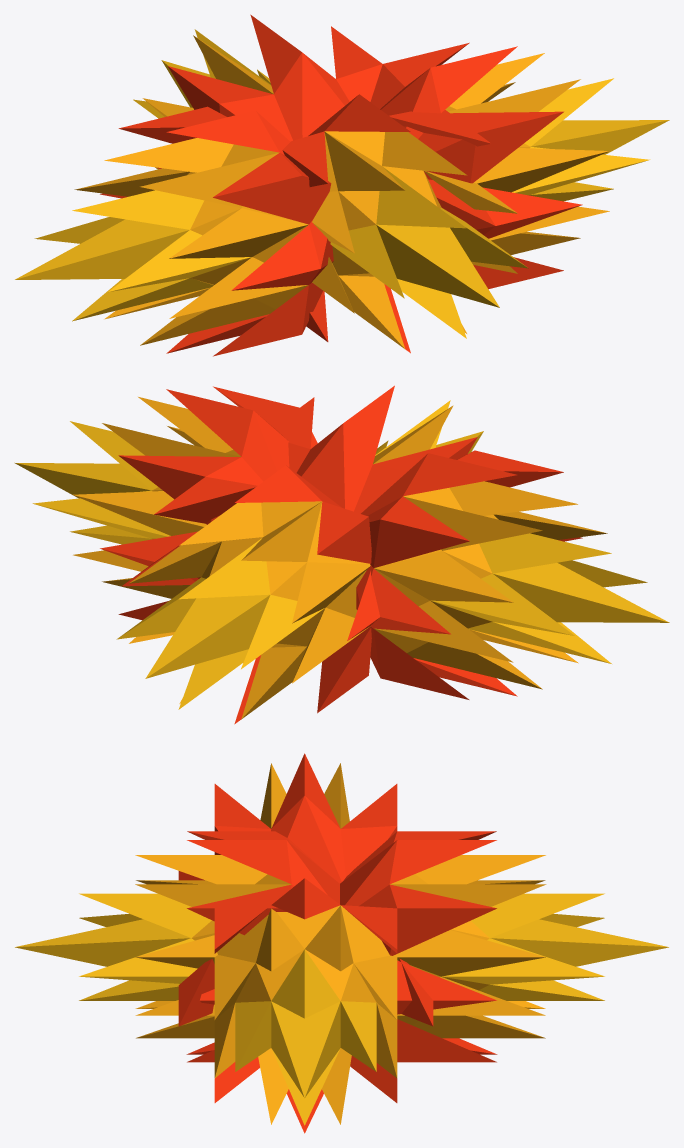
File: gfx_198.obj
3 renders of one model, top to bottom at view 1: azimuth 30°, elevation 25°; view 2: azimuth 150°, elevation 25°; view 3: azimuth 270°, elevation 25°, orthographic. The views are drawn at different scales.
Size of the model in its own units: 2.23 by 0.7188 by 1.99.
